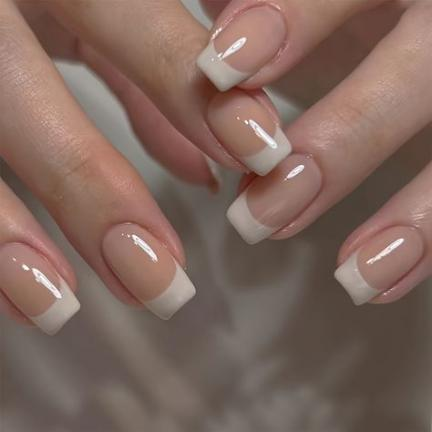Nail: (102, 223, 196, 321), (226, 153, 323, 245), (205, 87, 292, 177), (197, 7, 287, 91), (0, 242, 80, 335), (334, 226, 427, 305)
